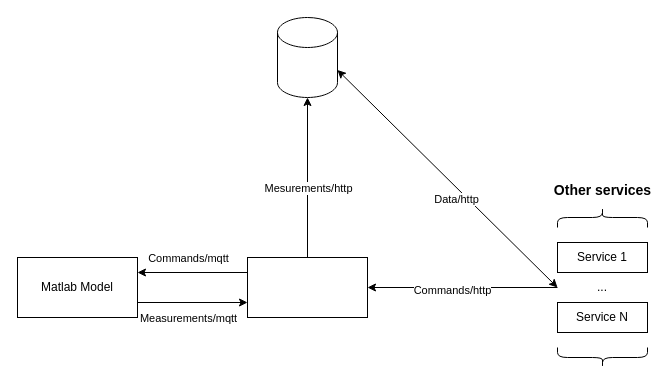
Image size: 670x385. Some labels were removed from this diagram. Here are the shapes that lost their labels. From the top down, the centre of each, then its label:
At (307,57): "TSDB".
At (307,287): "Gateway".
